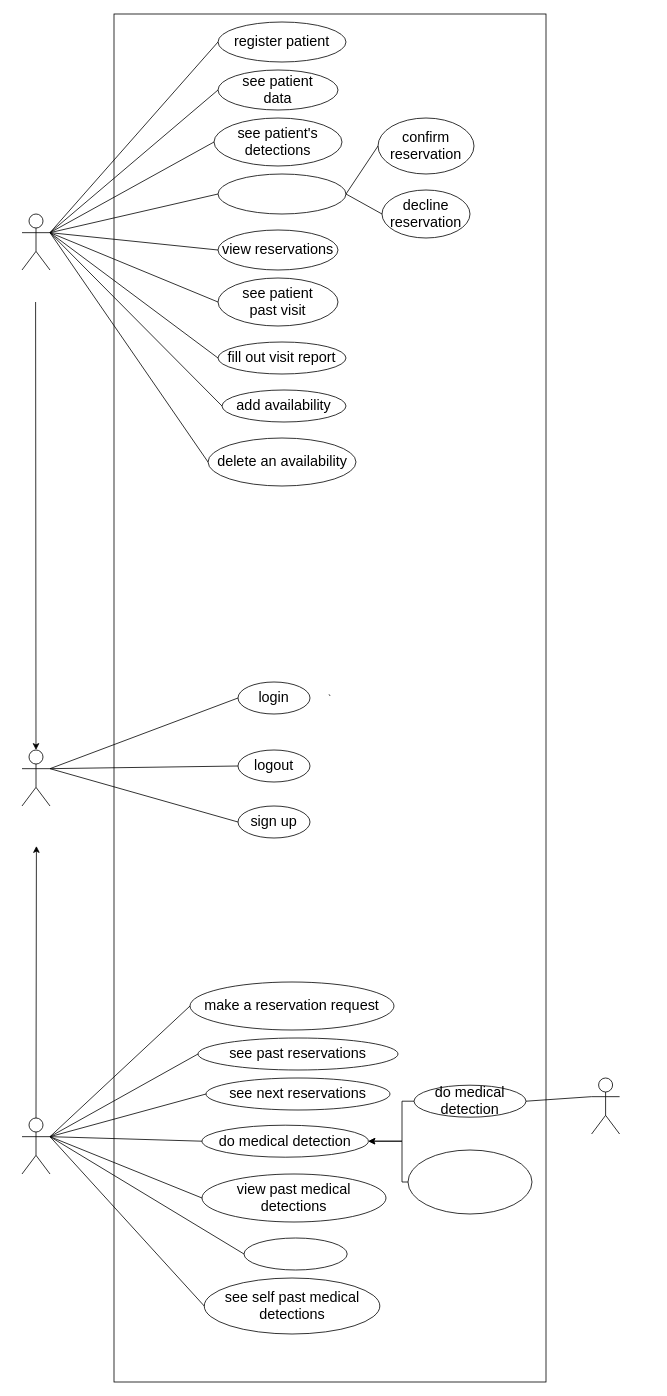
Image size: 667x1396. Some labels were removed from this diagram. The centre of each missing label's shape, as x and y in pixels:
"Doctor" belongs at [35,241].
"insert a medical detection manually" belongs at [469,1181].
"manage reservation" belongs at [281,193].
"Medical device" belongs at [605,1105].
"Patient" belongs at [35,1145].
"see self data" belongs at [295,1253].
"User" belongs at [35,777].
